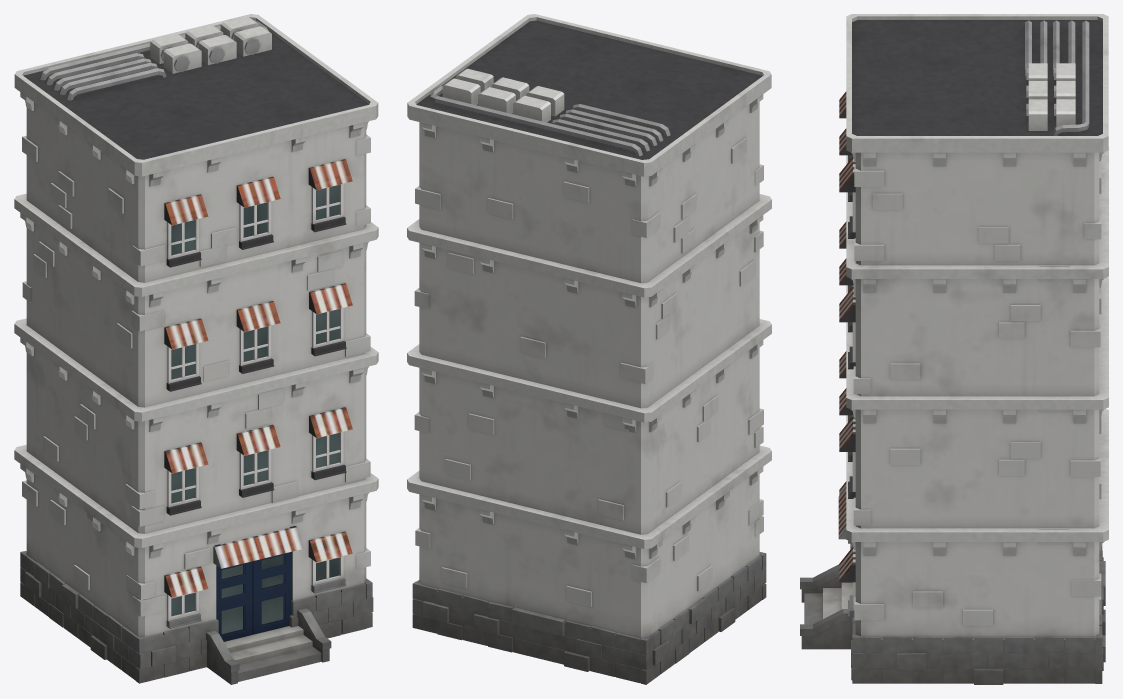
The model's file is 4Story.glb.
3 views of the same model, side by side, from view 1: azimuth 30°, elevation 25°; view 2: azimuth 150°, elevation 25°; view 3: azimuth 270°, elevation 25° (orthographic). The views are drawn at different scales.
Parts seen in each view (by area): view 1: 4Story_high; view 2: 4Story_high; view 3: 4Story_high.
Boxes of the visible parts, left/top/right/bottom form: 4Story_high: left=14, top=14, right=378, bottom=684; 4Story_high: left=407, top=14, right=771, bottom=684; 4Story_high: left=800, top=14, right=1108, bottom=684.
Size of the model in its own units: 2.42 by 5.09 by 2.53.
Materials: 2 (2 with a texture image).
